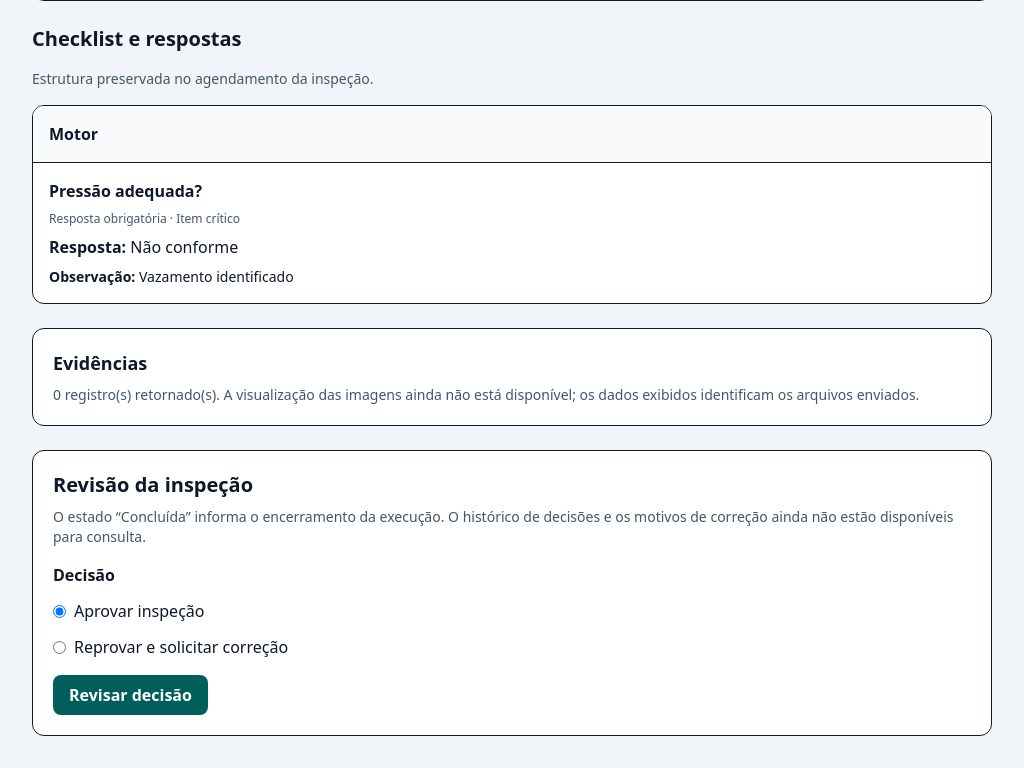
Test: bloqueia duplo envio enquanto a decisão está em andamento
Later steps or results of the test are not shown.
(page scrolled)
Click the button "Revisar decisão" at (130, 695), box left=53, top=675, right=208, bottom=715
(page scrolled)
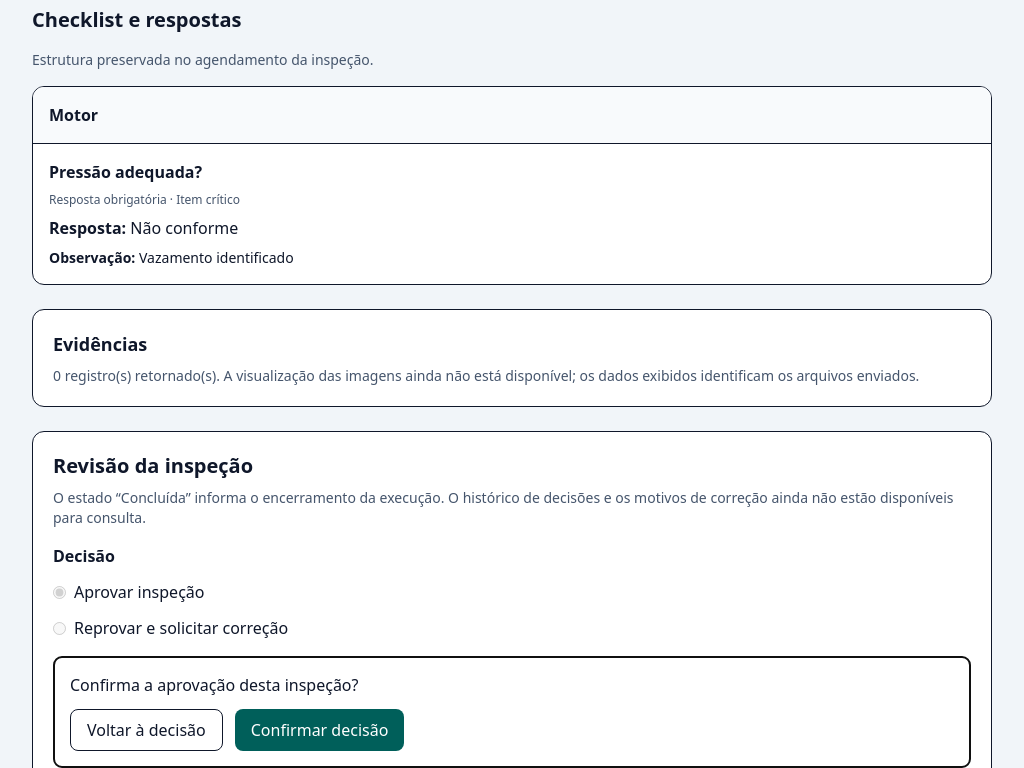
Click the button "Confirmar decisão" at (320, 730), box left=235, top=709, right=404, bottom=751
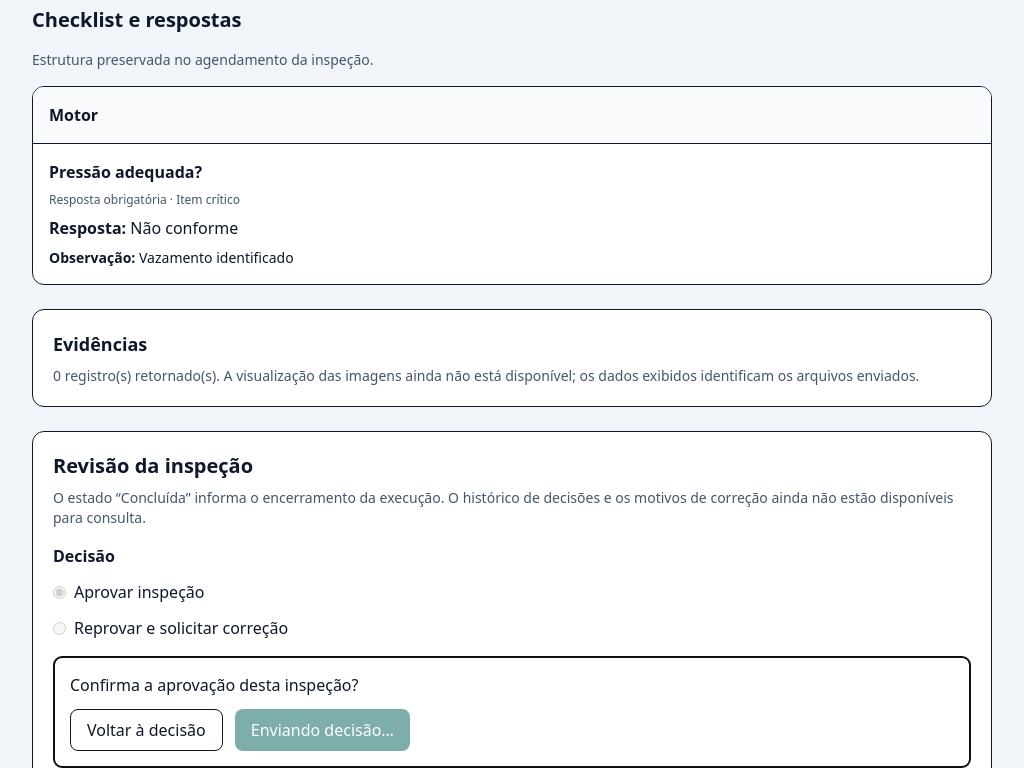
Click the button named "Confirmar decisão" at (322, 730), box left=235, top=709, right=410, bottom=751
(page scrolled)
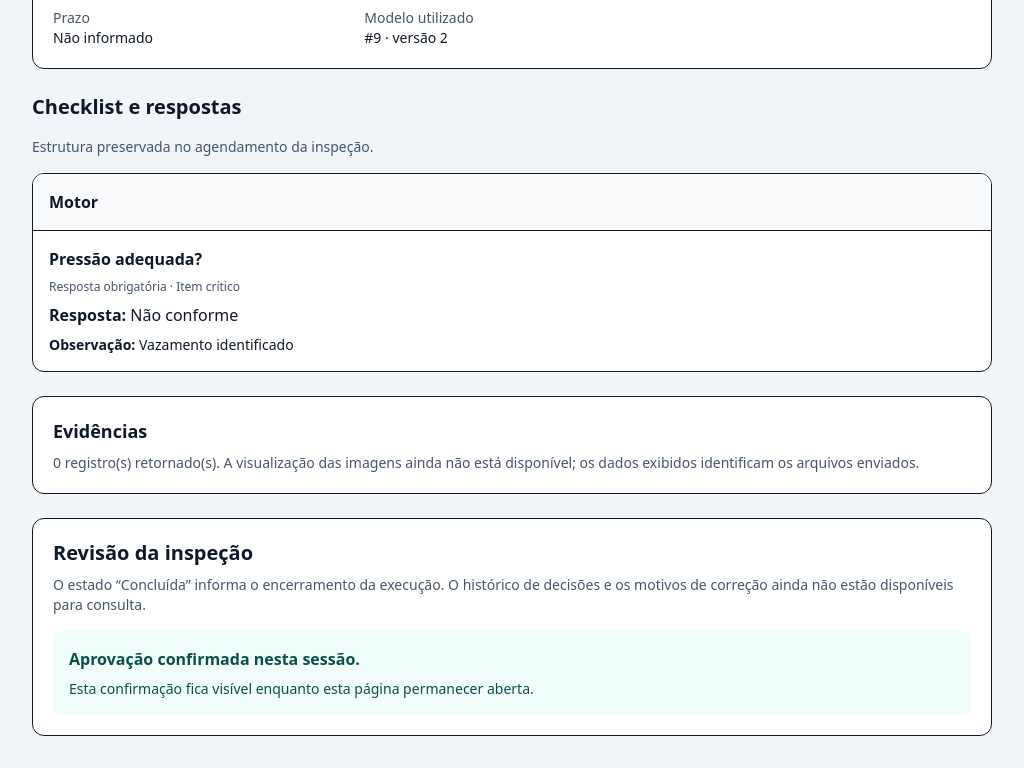
Now the message shows "Aprovação confirmada", box left=69, top=648, right=360, bottom=670
